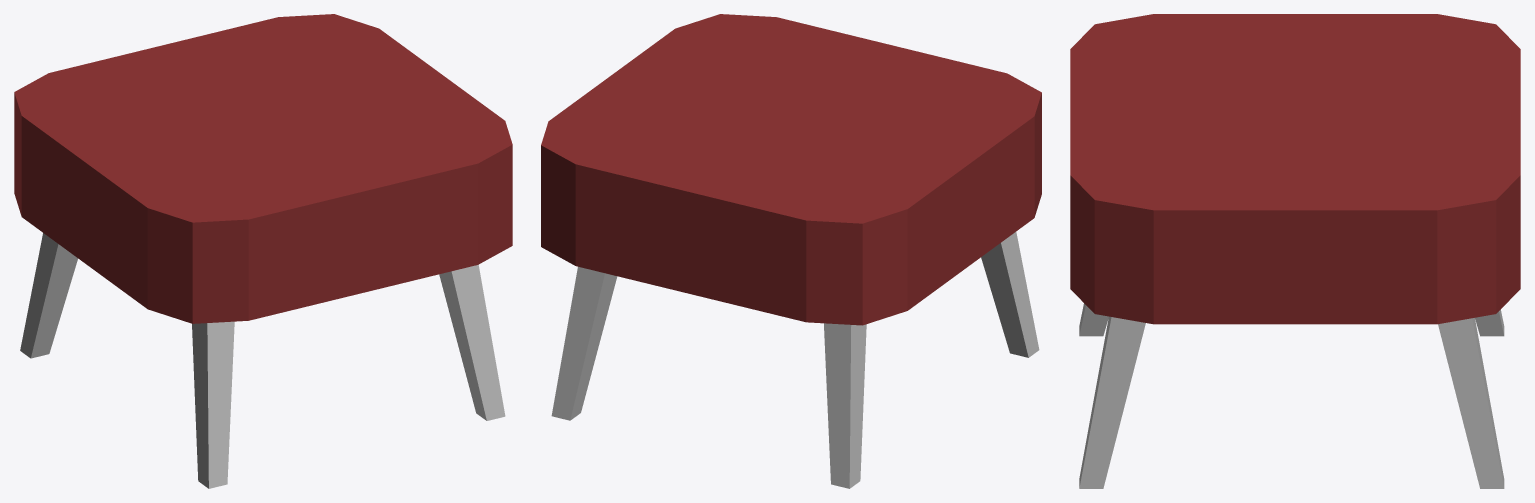
Rendered from Chair_4.fbx.
3 views of the same model, side by side, from view 1: azimuth 30°, elevation 25°; view 2: azimuth 150°, elevation 25°; view 3: azimuth 270°, elevation 25° (orthographic). The views are drawn at different scales.
Parts seen in each view (by area): view 1: Chair_4; view 2: Chair_4; view 3: Chair_4.
Part boxes in pixels (left/top/right/bottom): Chair_4: left=14, top=14, right=512, bottom=488; Chair_4: left=541, top=14, right=1041, bottom=488; Chair_4: left=1070, top=14, right=1520, bottom=488.
Size of the model in its own units: 0.4977 by 0.3507 by 0.4823.
